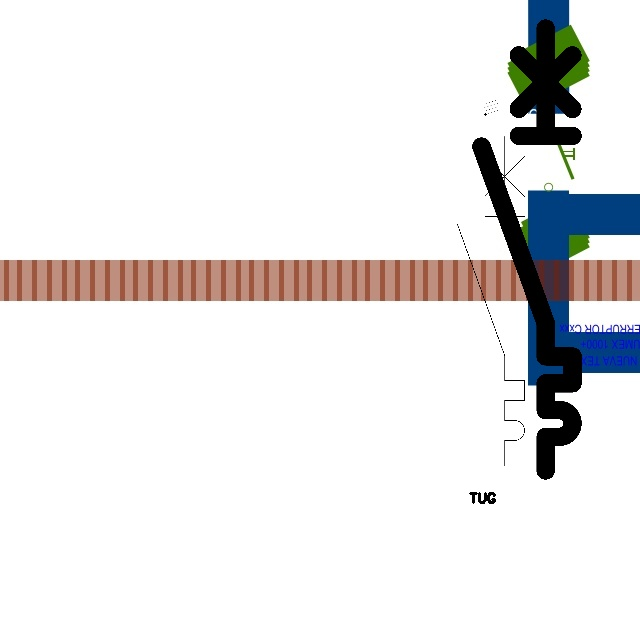interruptor_termomagnetico: (470, 17, 584, 482), (449, 128, 533, 474)
